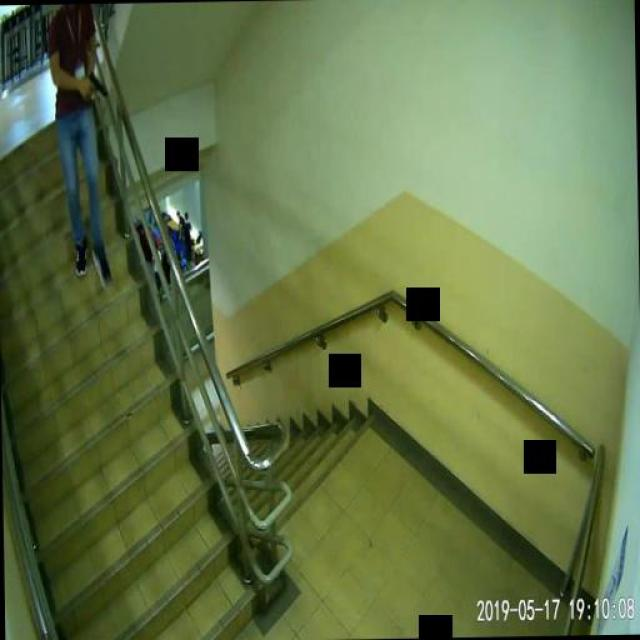gun: (86, 68, 106, 94)
